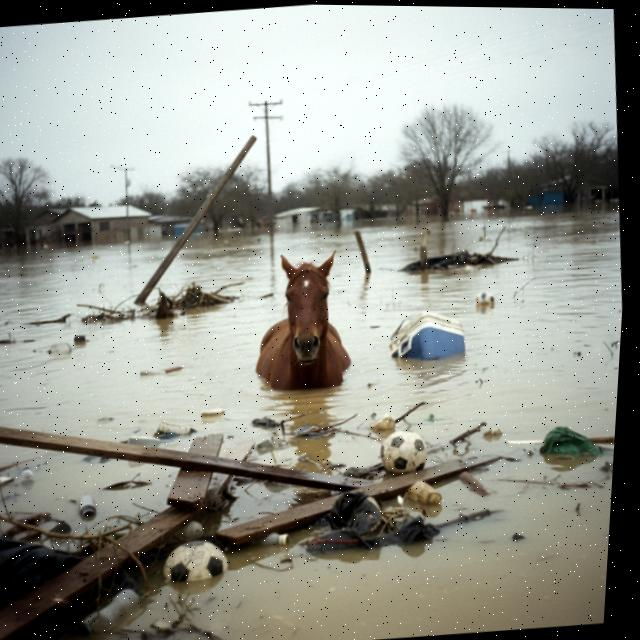horse: (226, 231, 376, 416)
